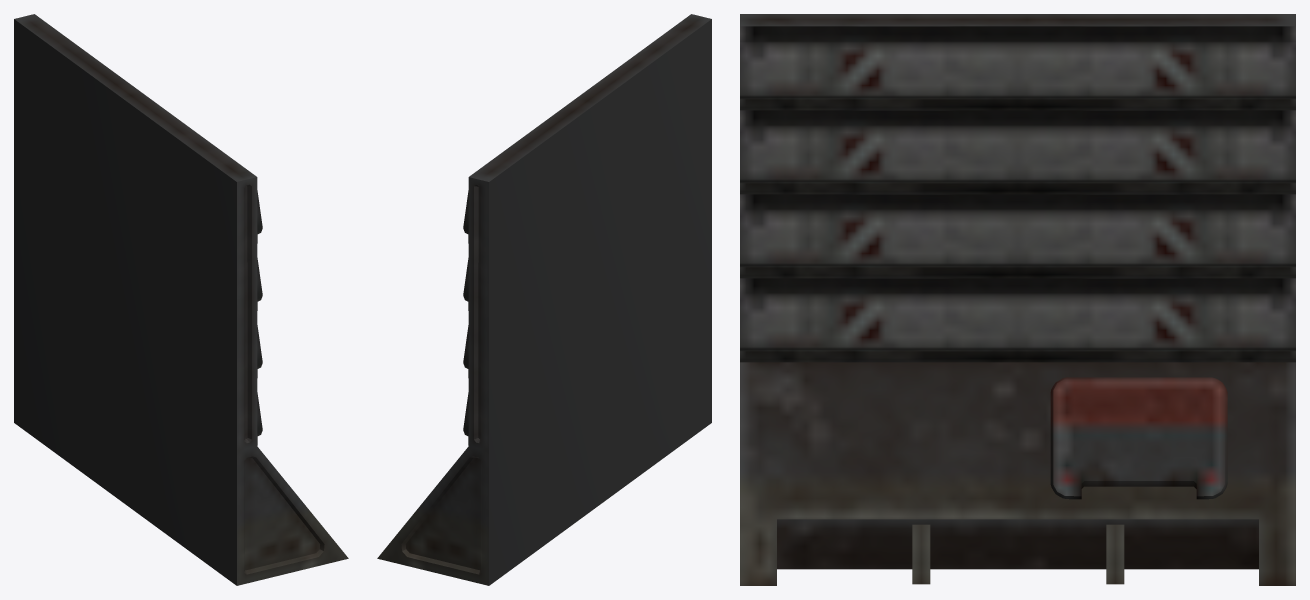
File: Wall_11.FBX
3 renders of one model, left to right at view 1: azimuth 30°, elevation 25°; view 2: azimuth 150°, elevation 25°; view 3: azimuth 270°, elevation 25°, orthographic. The views are drawn at different scales.
Visible parts, largest first — view 1: Wall_11; view 2: Wall_11; view 3: Wall_11.
Boxes of the visible parts, bbox=[...] form: Wall_11: bbox=[14, 14, 348, 585]; Wall_11: bbox=[377, 14, 711, 585]; Wall_11: bbox=[740, 14, 1295, 585].
Size of the model in its own units: 87.08 by 300 by 300.
